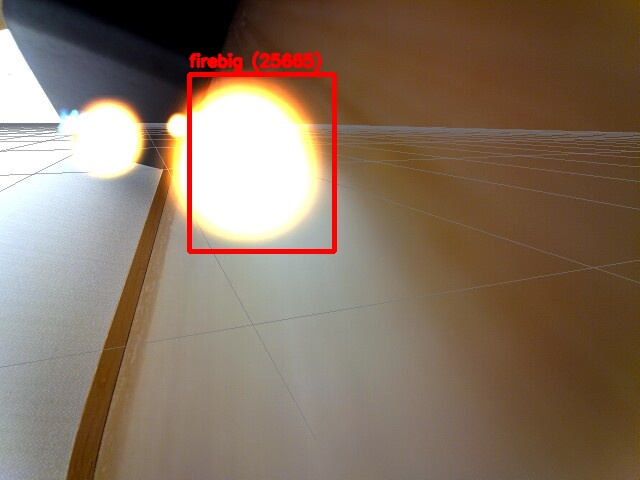firebig: (189, 74, 334, 251)
